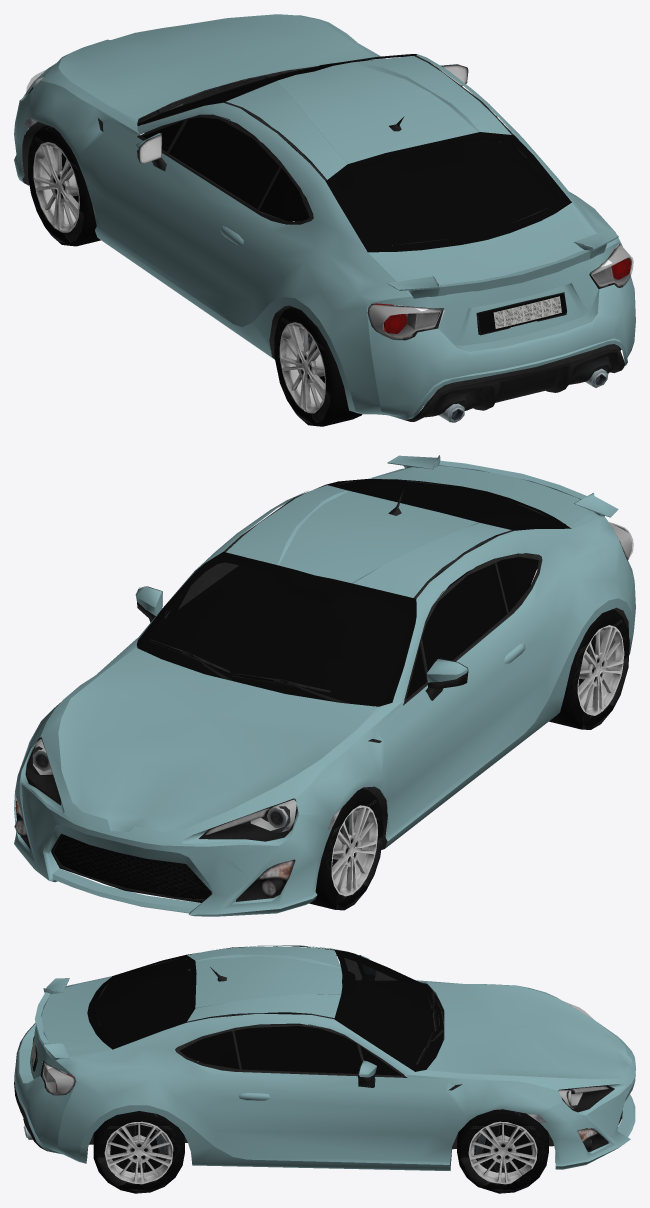
Rendered from car.glb.
3 renders of one model, top to bottom at view 1: azimuth 30°, elevation 25°; view 2: azimuth 150°, elevation 25°; view 3: azimuth 270°, elevation 25°, orthographic. The views are drawn at different scales.
Visible parts, largest first — view 1: Object_19, Object_52, Object_7, Object_53, Object_32, Object_31, Object_54, Object_8, Object_11, Object_22; view 2: Object_19, Object_52, Object_7, Object_53, Object_32, Object_31, Object_54, Object_8; view 3: Object_19, Object_52, Object_31, Object_7, Object_32, Object_53, Object_59, Object_54, Object_8.
Boxes of the visible parts, x1=… form: Object_19: x1=14, y1=14, x2=635, y2=419; Object_52: x1=143, y1=54, x2=560, y2=245; Object_7: x1=24, y1=55, x2=632, y2=422; Object_53: x1=137, y1=54, x2=571, y2=252; Object_32: x1=33, y1=142, x2=325, y2=413; Object_31: x1=28, y1=125, x2=621, y2=426; Object_54: x1=26, y1=66, x2=633, y2=339; Object_8: x1=22, y1=60, x2=566, y2=376; Object_11: x1=493, y1=298, x2=552, y2=328; Object_22: x1=478, y1=293, x2=566, y2=333; Object_19: x1=14, y1=455, x2=635, y2=916; Object_52: x1=143, y1=479, x2=560, y2=706; Object_7: x1=14, y1=479, x2=632, y2=902; Object_53: x1=137, y1=479, x2=571, y2=706; Object_32: x1=331, y1=625, x2=624, y2=896; Object_31: x1=309, y1=609, x2=629, y2=910; Object_54: x1=26, y1=522, x2=633, y2=841; Object_8: x1=149, y1=524, x2=629, y2=859; Object_19: x1=14, y1=945, x2=635, y2=1170; Object_52: x1=95, y1=953, x2=439, y2=1073; Object_31: x1=93, y1=1109, x2=548, y2=1193; Object_7: x1=14, y1=946, x2=622, y2=1152; Object_32: x1=104, y1=1121, x2=537, y2=1184; Object_53: x1=87, y1=949, x2=444, y2=1075; Object_59: x1=110, y1=1124, x2=533, y2=1172; Object_54: x1=41, y1=1002, x2=614, y2=1111; Object_8: x1=33, y1=991, x2=555, y2=1169.
Size of the model in its own units: 1.95 by 1.34 by 4.31.
12 materials, 8 textured.
